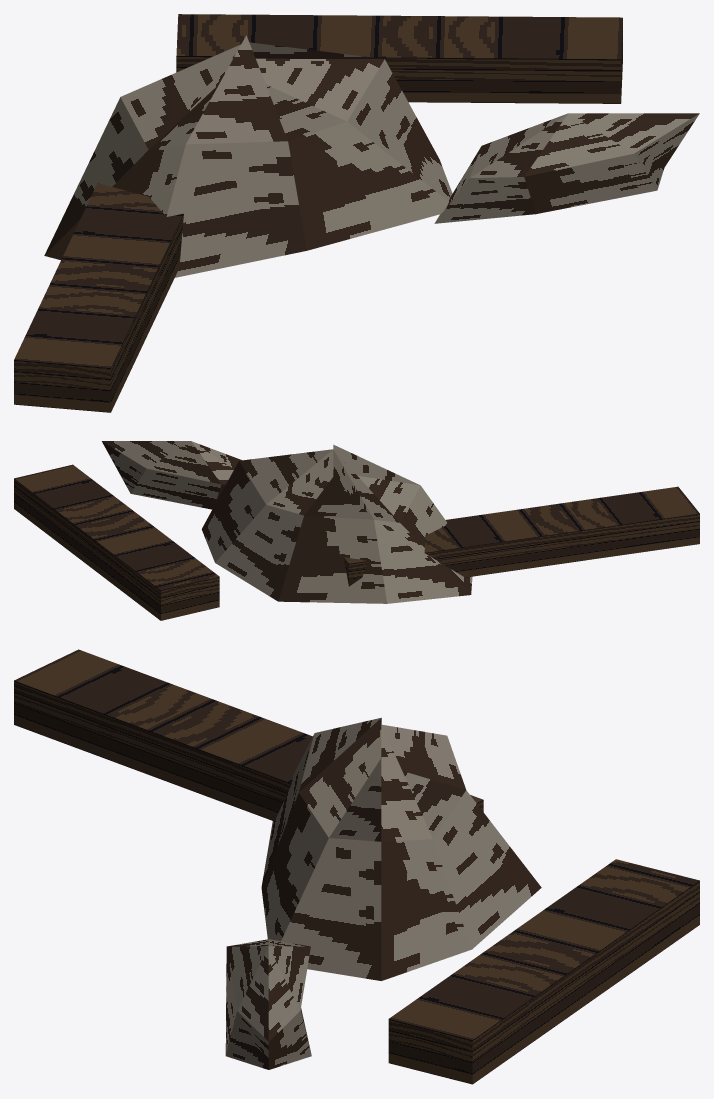
File: MAR-02_Restos_a_la_deriva_c.gltf
3 renders of one model, top to bottom at view 1: azimuth 30°, elevation 25°; view 2: azimuth 150°, elevation 25°; view 3: azimuth 270°, elevation 25°, orthographic. The views are drawn at different scales.
Visible parts, largest first — view 1: MAR-02_Restos_a_la_deriva_c-convcol; view 2: MAR-02_Restos_a_la_deriva_c-convcol; view 3: MAR-02_Restos_a_la_deriva_c-convcol.
Boxes of the visible parts, x1,y1,x2,y2 form: MAR-02_Restos_a_la_deriva_c-convcol: [14, 14, 699, 412]; MAR-02_Restos_a_la_deriva_c-convcol: [14, 441, 699, 620]; MAR-02_Restos_a_la_deriva_c-convcol: [14, 649, 699, 1084].
Size of the model in its own units: 1.89 by 0.4 by 1.4.
Materials: 1 (1 with a texture image).
